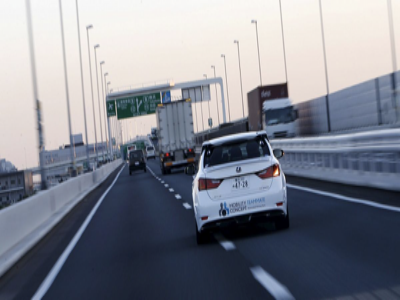licence: (227, 177, 252, 193)
